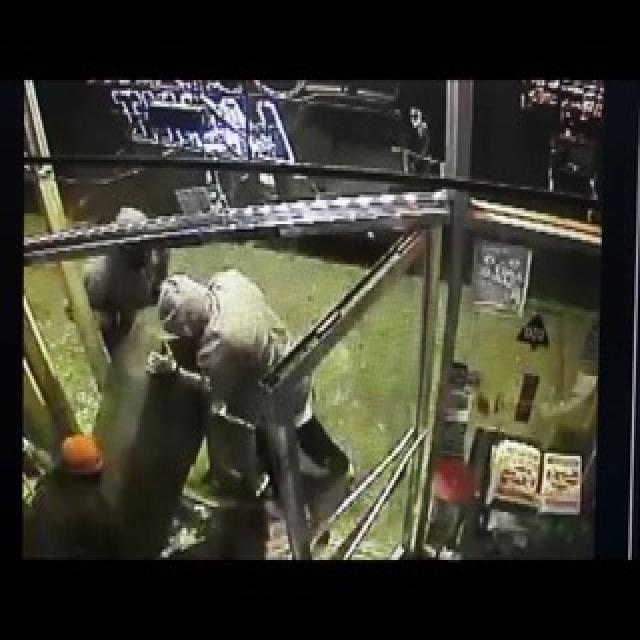thief: (80, 209, 229, 390), (34, 415, 114, 503)
